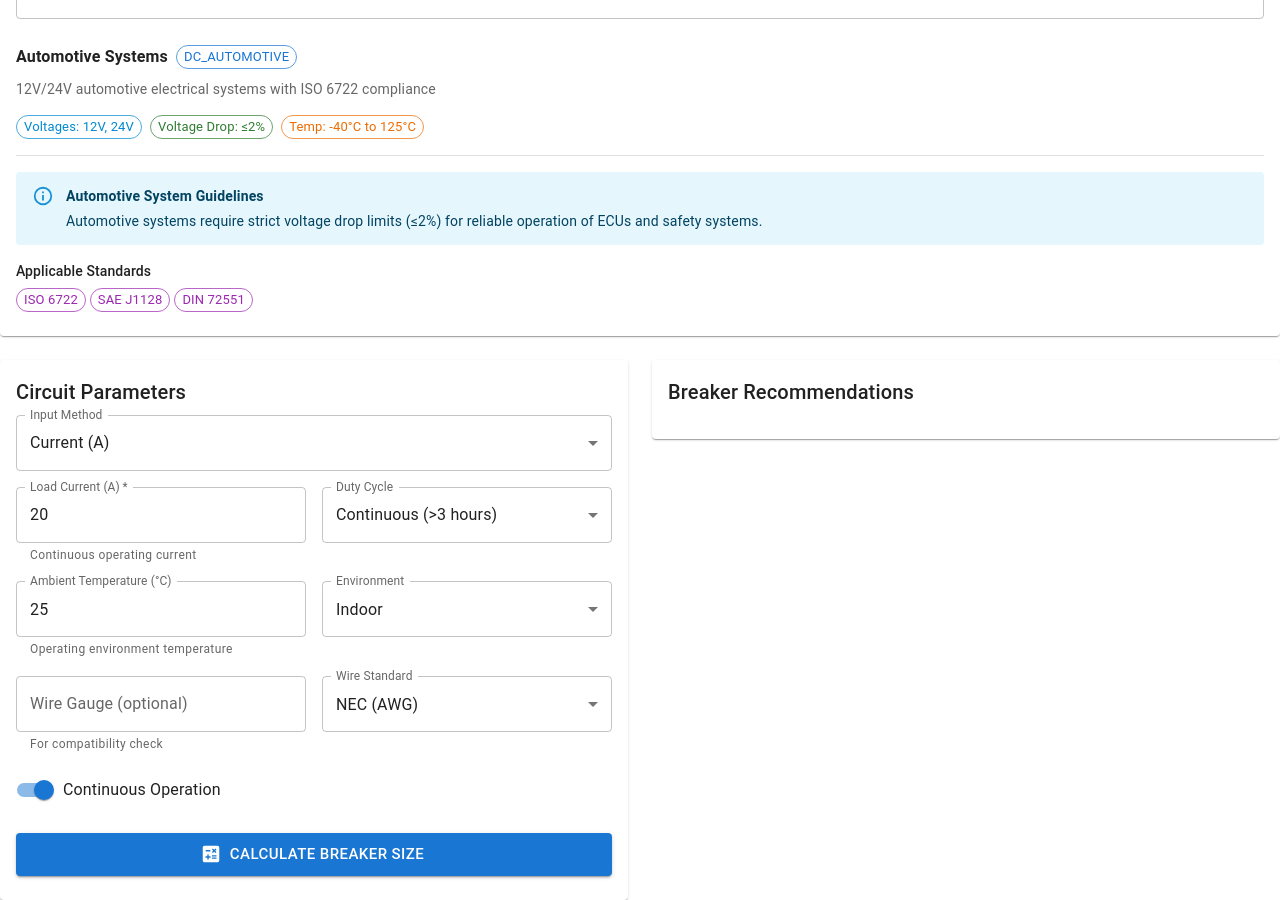
Test: DC Breaker Calculator › Calculation Functionality › should show calculation results
(page scrolled)
Note: Trigger calculation
Click the button "Calculate Breaker Size" at (314, 854), box [16,833,612,876]
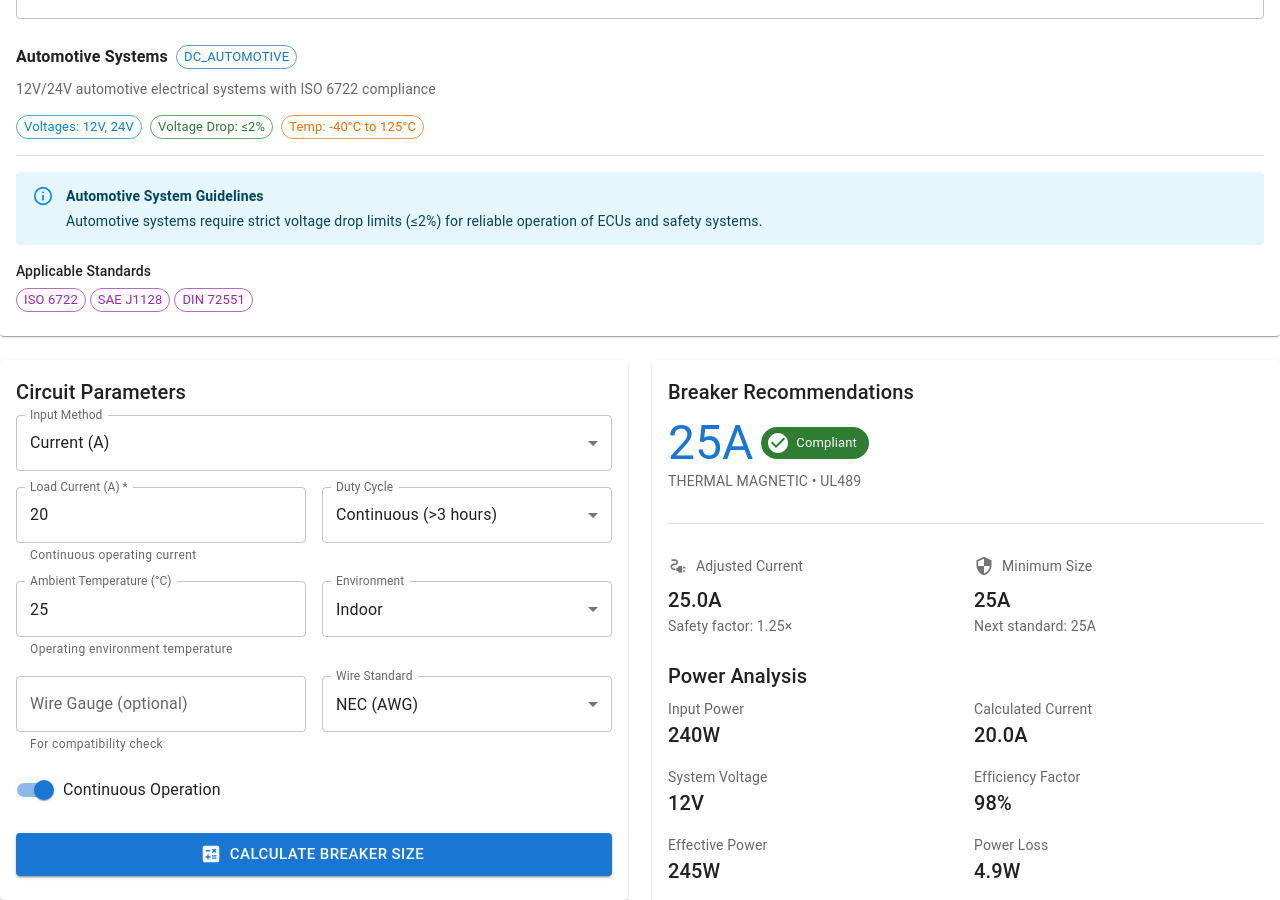
Expected: the heading "25A" next to "Compliant" is shown, [668,415,753,471]
Expected: the text "THERMAL MAGNETIC • UL489" is shown, [668,473,861,489]
Expected: the text "Compliant" is shown, [796,435,857,450]
